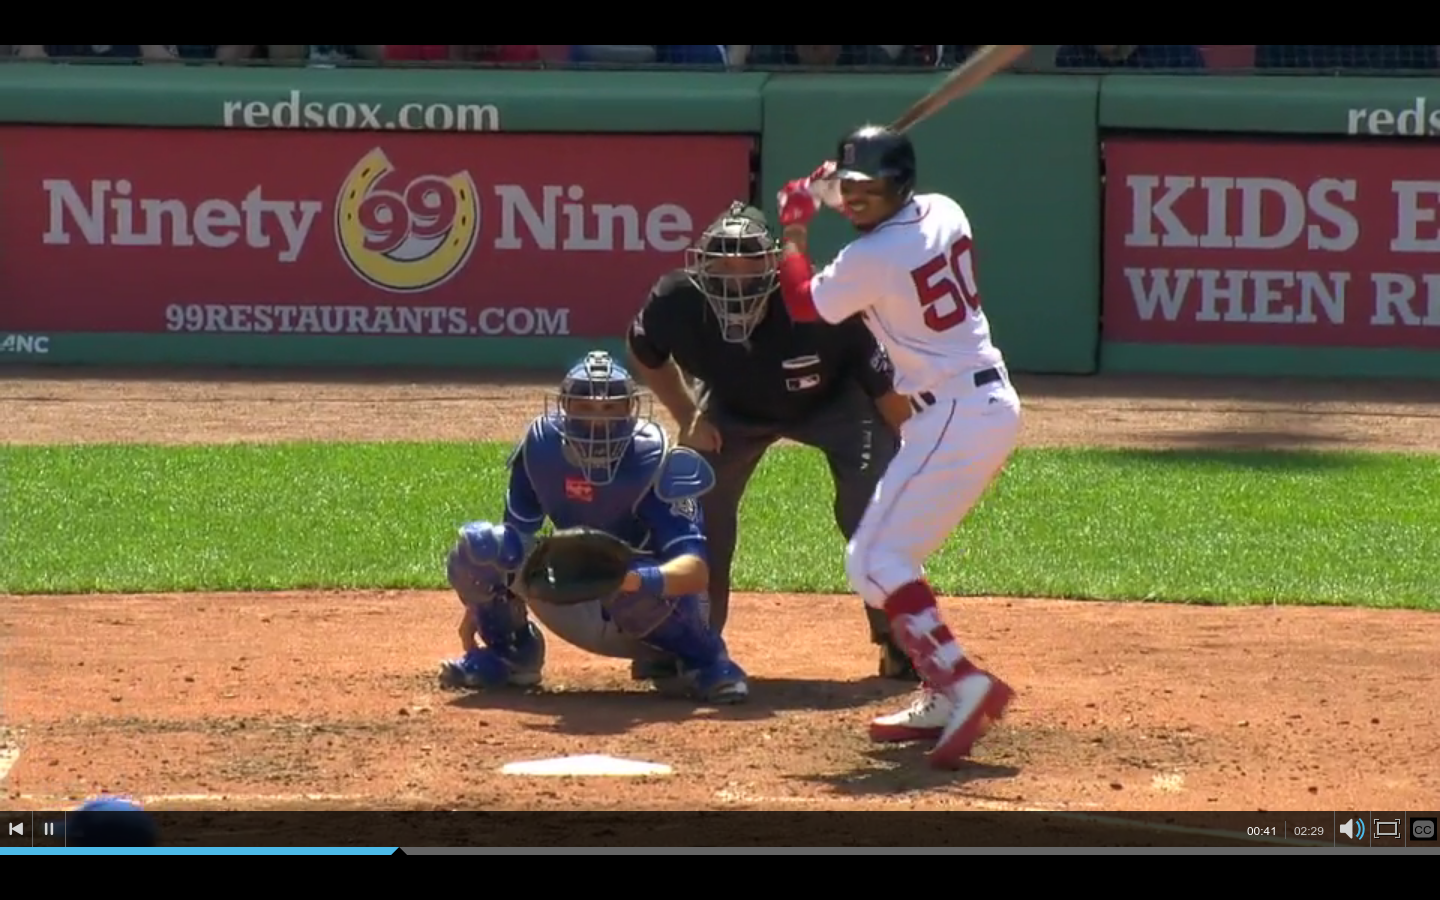baseball bat: (898, 37, 1024, 136)
baseball player: (770, 125, 1036, 769), (428, 349, 752, 722)
referee: (625, 202, 933, 688)
